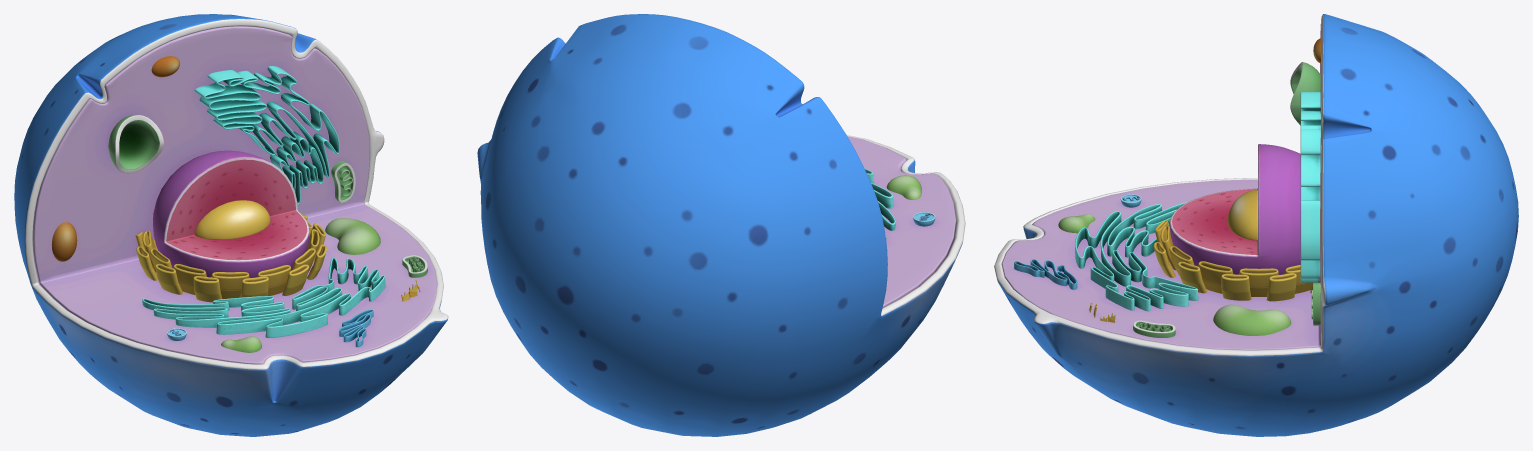
Rendered from animal cell.gltf.
3 views of the same model, side by side, from view 1: azimuth 30°, elevation 25°; view 2: azimuth 150°, elevation 25°; view 3: azimuth 270°, elevation 25° (orthographic). The views are drawn at different scales.
Visible parts, largest first — view 1: node_id33, node_id31; view 2: node_id33, node_id31; view 3: node_id33, node_id31.
Boxes of the visible parts, bbox=[...] form: node_id33: bbox=[14, 14, 448, 436]; node_id31: bbox=[32, 26, 436, 364]; node_id33: bbox=[477, 14, 965, 436]; node_id31: bbox=[847, 136, 956, 307]; node_id33: bbox=[994, 14, 1518, 436]; node_id31: bbox=[1001, 23, 1321, 350].
Bounding box in the file's own units: 1.08 × 1.04 × 1.3.
2 materials, 2 textured.
